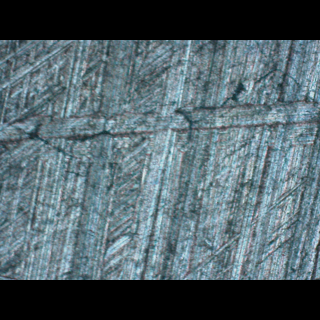d: (0, 66, 319, 148), (179, 173, 320, 279)
